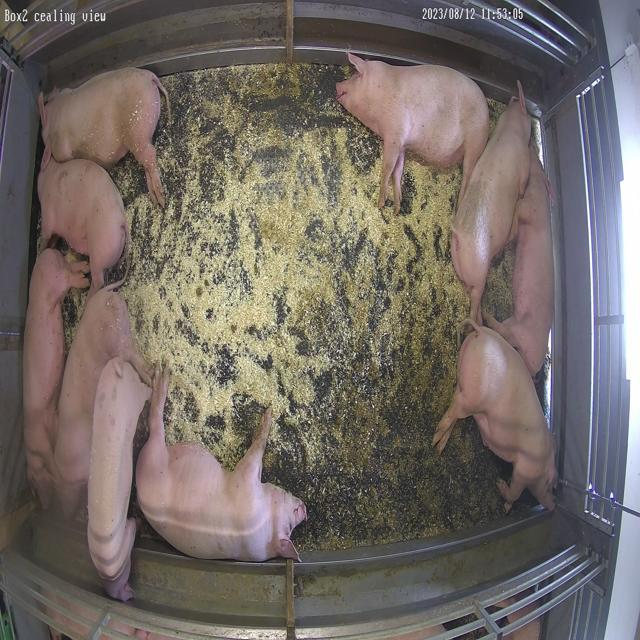Dirt: (295, 316, 511, 552), (224, 64, 343, 134)
Pig: (136, 368, 307, 562), (337, 53, 489, 214), (433, 321, 558, 512), (55, 285, 149, 517), (453, 90, 532, 320), (22, 248, 89, 508), (41, 67, 164, 206), (87, 358, 151, 602), (486, 153, 555, 376), (37, 156, 128, 294)
